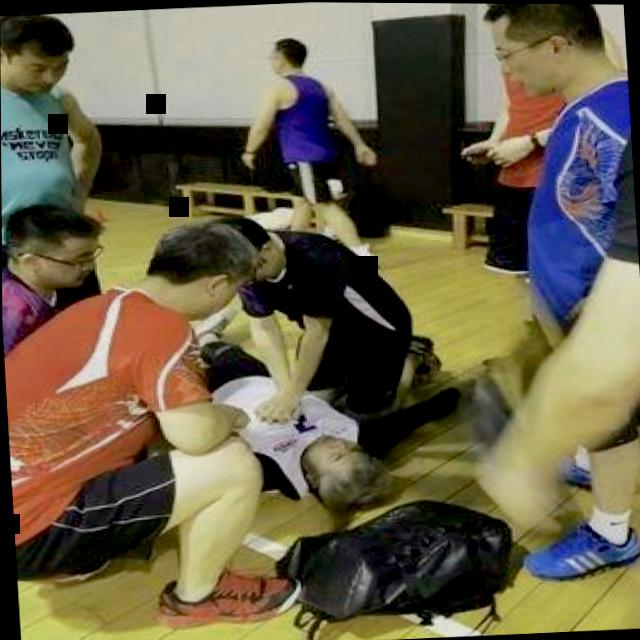Fall-Detected: (171, 324, 403, 522)
